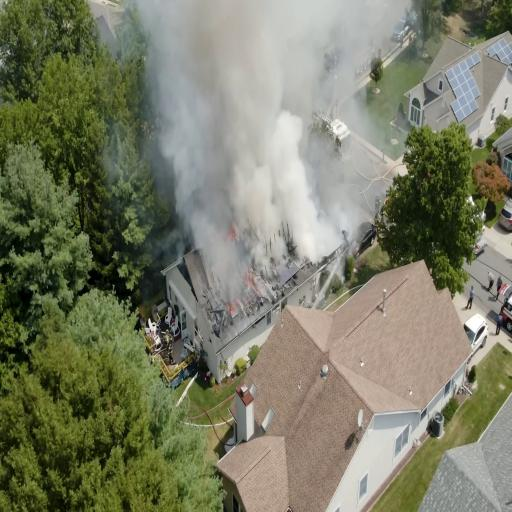smoke: (161, 0, 306, 143), (204, 76, 298, 236), (181, 143, 228, 245)
